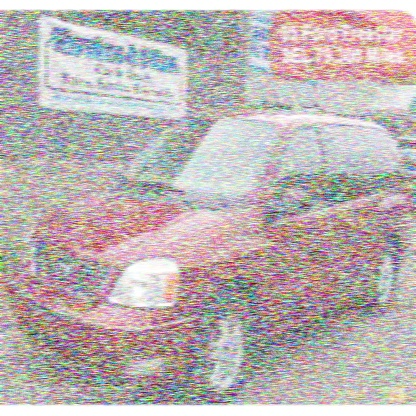Vehicle: (6, 110, 412, 404)
